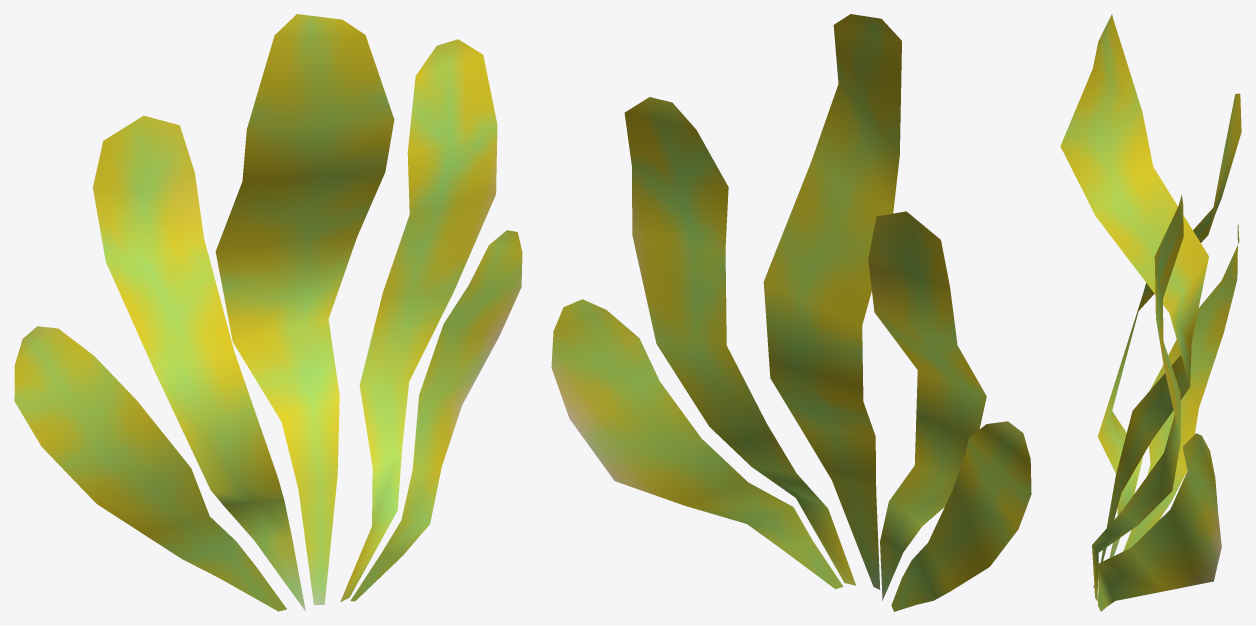
File: plant_yellow.fbx
The picture shows the model from 3 angles, left to right: view 1: azimuth 30°, elevation 25°; view 2: azimuth 150°, elevation 25°; view 3: azimuth 270°, elevation 25°; orthographic projection. The views are drawn at different scales.
Visible parts, largest first — view 1: Plant_yellow; view 2: Plant_yellow; view 3: Plant_yellow.
Part boxes in pixels (box(x1,y1,x2,y2)): Plant_yellow: box(14, 14, 522, 611); Plant_yellow: box(551, 14, 1031, 611); Plant_yellow: box(1060, 14, 1241, 611).
Size of the model in its own units: 35.37 by 40.53 by 11.61.
